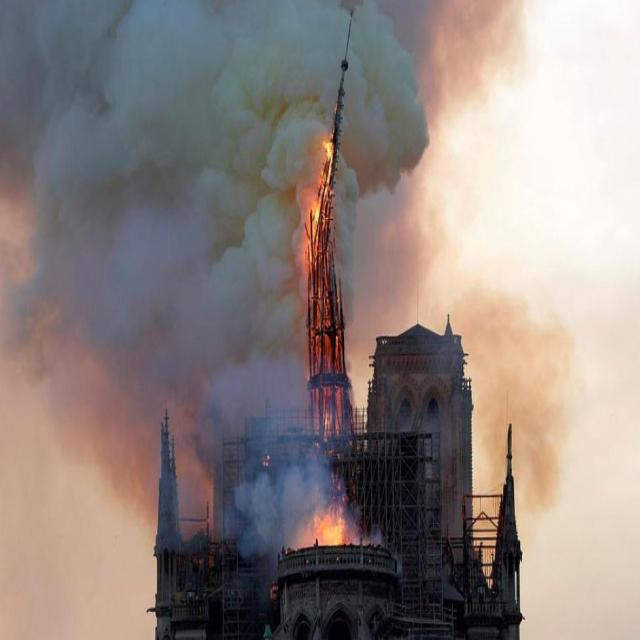fire: (295, 105, 367, 554)
smoke: (30, 5, 293, 426)
